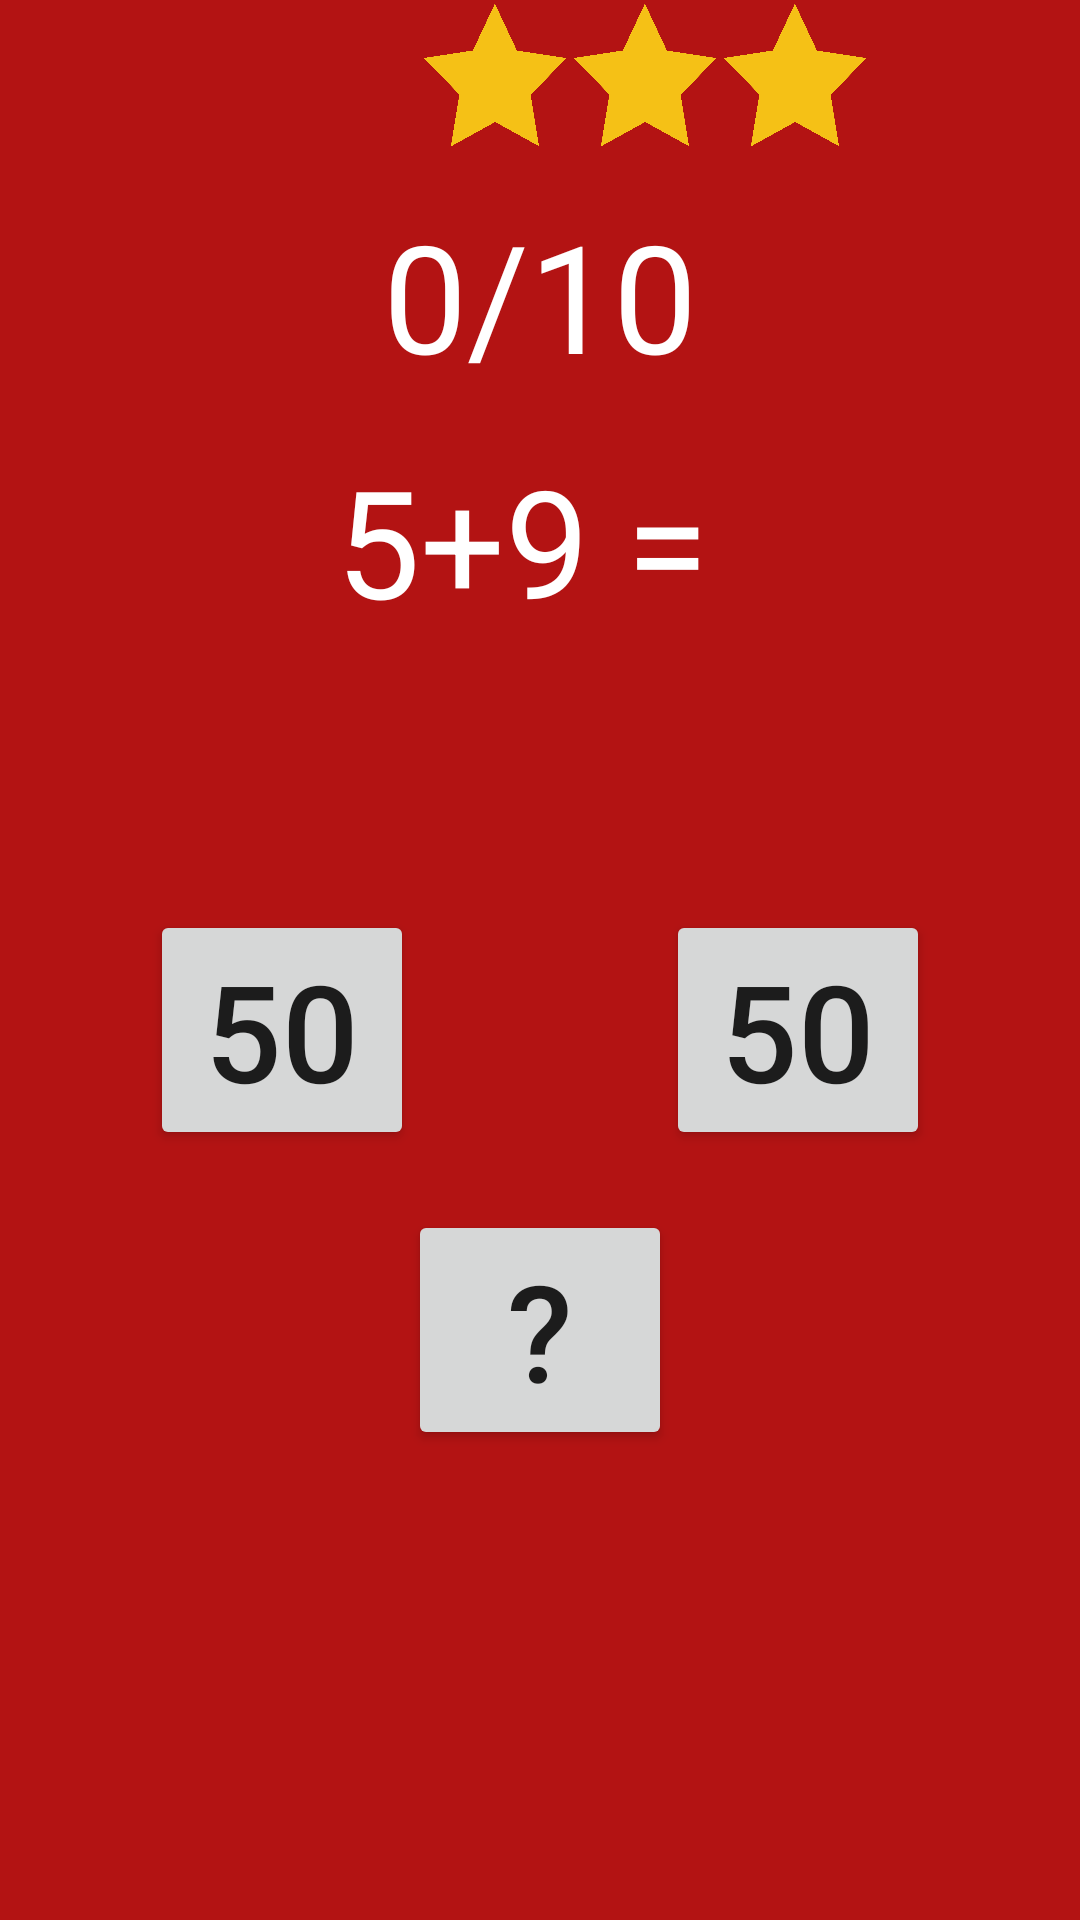

Named icons in this screenshot (1080 x 1920) and their bounding boxes, box=[x1, y1, x2, y2]:
yellowstarpoint: box=[424, 4, 566, 146], box=[574, 4, 716, 146], box=[724, 4, 866, 146]
